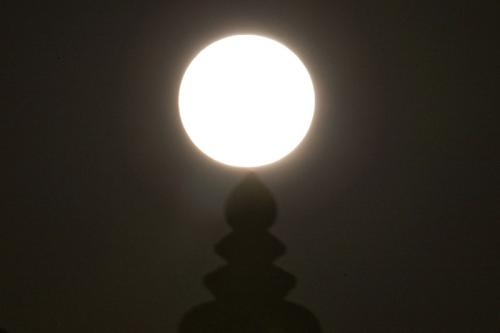moon: (177, 33, 313, 169)
